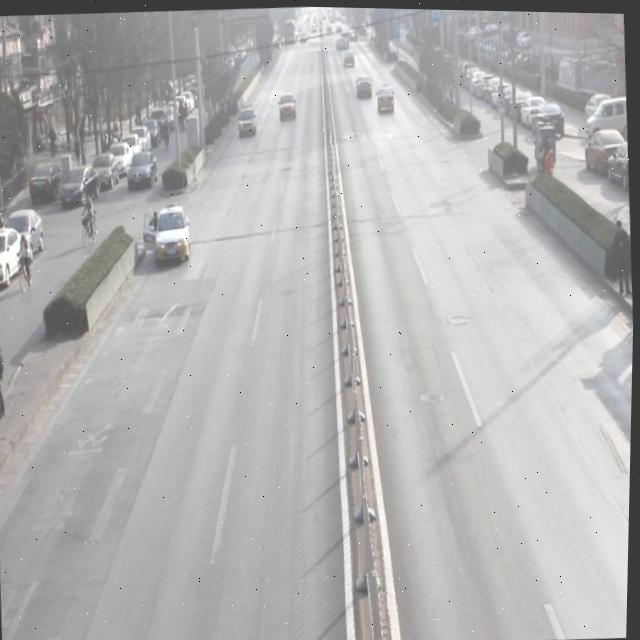car: (149, 203, 196, 269), (234, 100, 261, 142), (276, 87, 301, 124), (375, 77, 397, 114), (354, 65, 375, 102)
